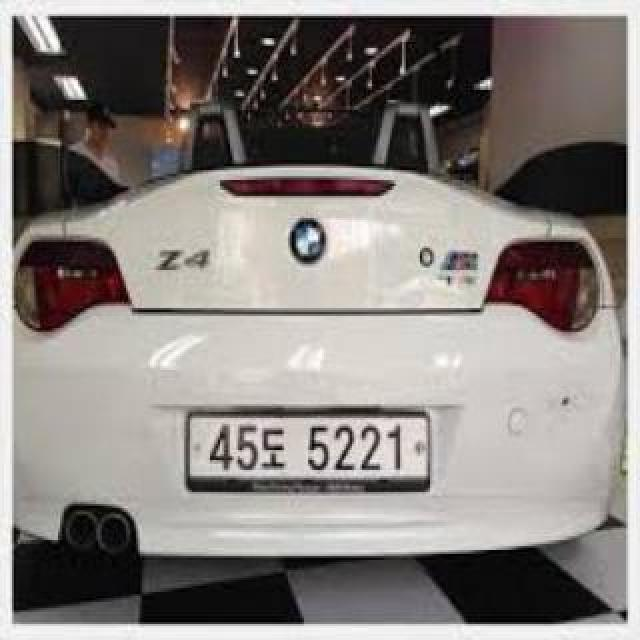car: (12, 98, 622, 564)
illegal_plate: (186, 408, 432, 497)
